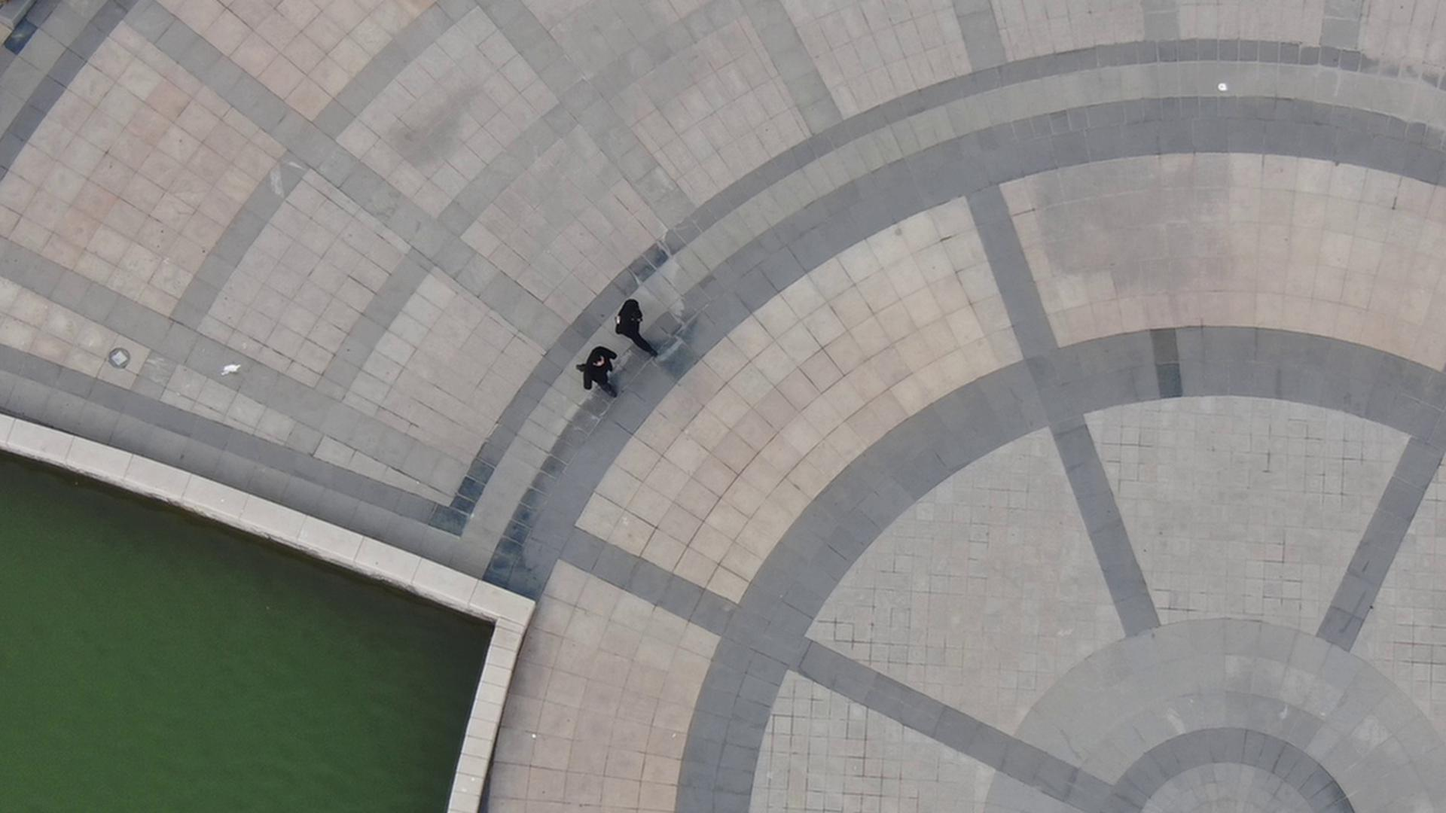human: (602, 285, 651, 351), (577, 339, 617, 405)
